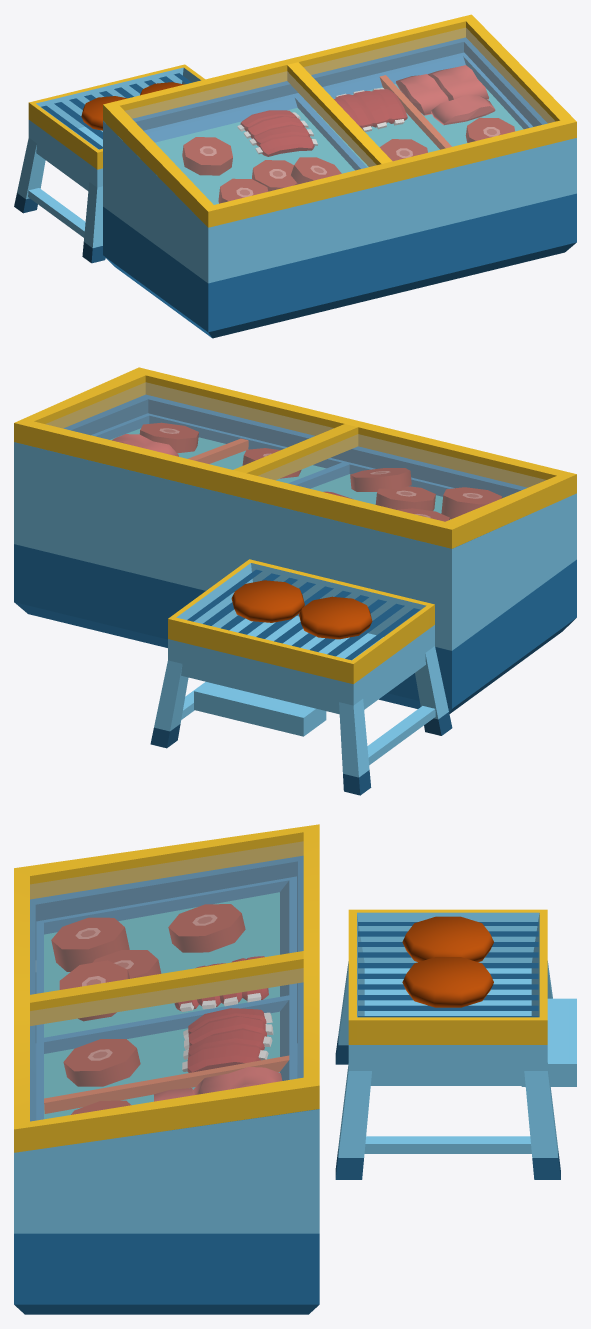
The model's file is Bep_nuong_lv1.fbx.
The picture shows the model from 3 angles, top to bottom: view 1: azimuth 30°, elevation 25°; view 2: azimuth 150°, elevation 25°; view 3: azimuth 270°, elevation 25°; orthographic projection. The views are drawn at different scales.
Parts seen in each view (by area): view 1: Tu_lanh_lv1, Bep_nuong_lv1, Thit_nuong_lv1; view 2: Tu_lanh_lv1, Bep_nuong_lv1, Thit_nuong_lv1; view 3: Tu_lanh_lv1, Bep_nuong_lv1, Thit_nuong_lv1.
Part boxes in pixels (left/top/right/bottom): Tu_lanh_lv1: left=103, top=14, right=576, bottom=338; Bep_nuong_lv1: left=14, top=64, right=205, bottom=263; Thit_nuong_lv1: left=81, top=82, right=184, bottom=130; Tu_lanh_lv1: left=14, top=367, right=576, bottom=713; Bep_nuong_lv1: left=150, top=559, right=452, bottom=795; Thit_nuong_lv1: left=231, top=580, right=372, bottom=639; Tu_lanh_lv1: left=14, top=824, right=319, bottom=1314; Bep_nuong_lv1: left=335, top=909, right=576, bottom=1179; Thit_nuong_lv1: left=402, top=916, right=493, bottom=1007.
Size of the model in its own units: 384 by 159 by 344.
